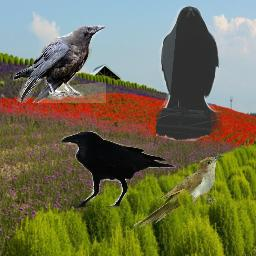Crow: (60, 131, 177, 209), (156, 6, 222, 141), (13, 25, 106, 103)
Cuckoo: (133, 155, 224, 227)
